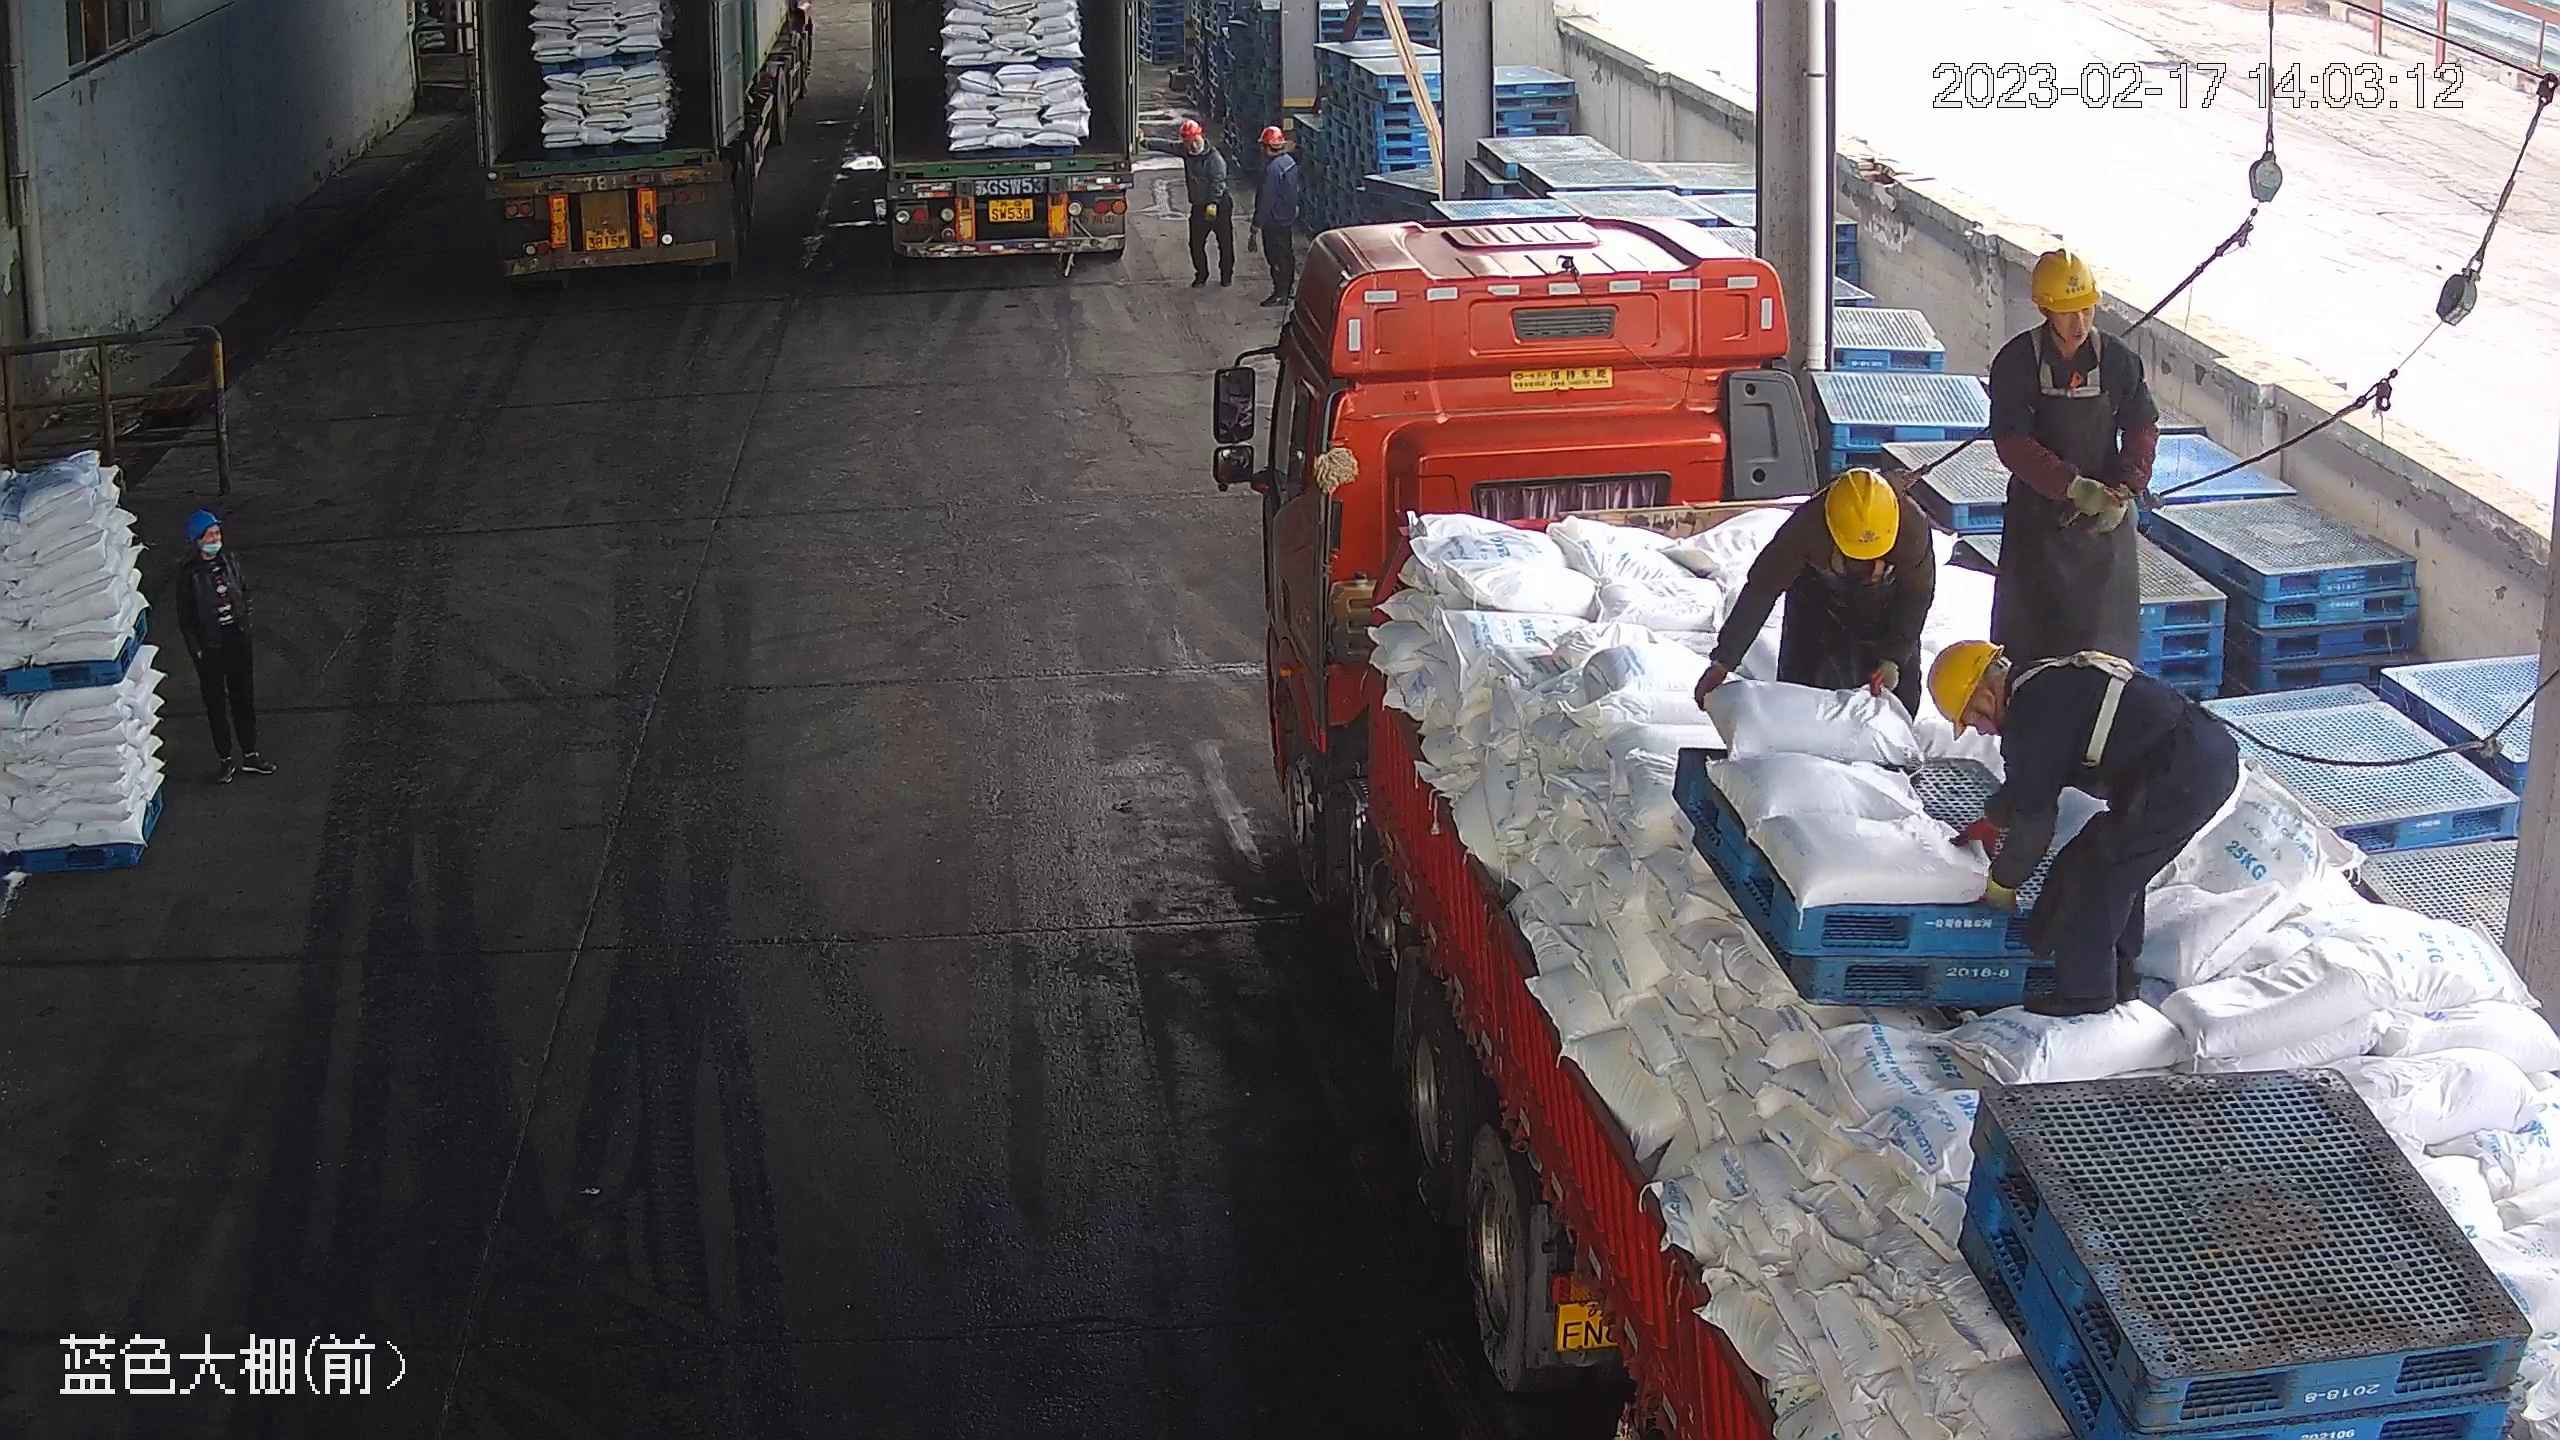belt: (2003, 644, 2156, 771), (2023, 318, 2126, 403), (1825, 529, 1893, 588)
head: (1925, 634, 2105, 772), (1993, 241, 2147, 396), (1776, 465, 1941, 587), (181, 513, 236, 593), (1252, 121, 1304, 184), (1173, 119, 1220, 174)
helmet: (1817, 463, 1907, 565), (1929, 635, 2005, 736), (2021, 235, 2105, 314), (1258, 122, 1288, 148), (190, 512, 218, 538), (1177, 119, 1205, 140)
people: (1927, 633, 2241, 1020), (1983, 238, 2166, 679), (1701, 461, 1940, 731), (178, 511, 279, 783), (1171, 115, 1229, 297), (1247, 121, 1303, 308)
truck: (1228, 186, 2560, 1440), (472, 1, 822, 281), (861, 1, 1140, 277)
